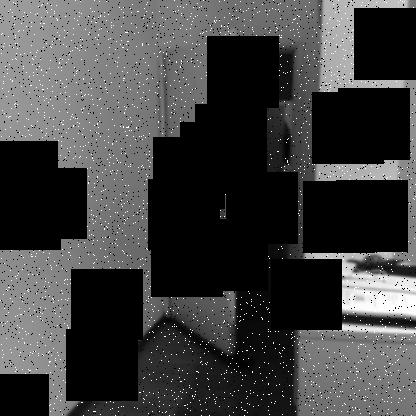Porte: (154, 26, 311, 361)
